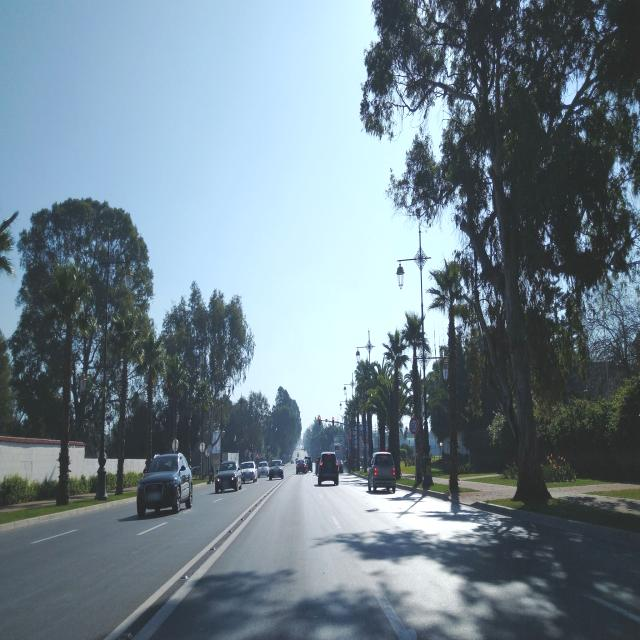car: (136, 452, 192, 517), (367, 449, 396, 494), (214, 458, 242, 494), (317, 450, 339, 486), (241, 460, 258, 484), (268, 457, 284, 481), (258, 460, 268, 477), (296, 458, 306, 474), (306, 456, 312, 473)
